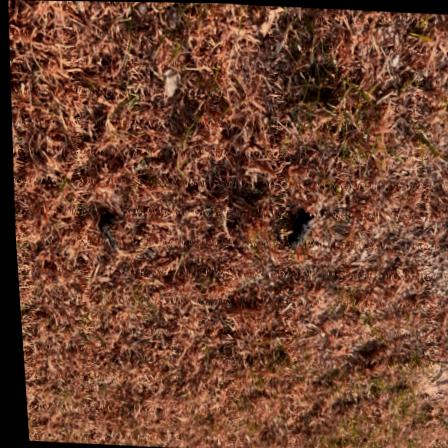dog-poop: (277, 207, 317, 251), (87, 211, 122, 251)
